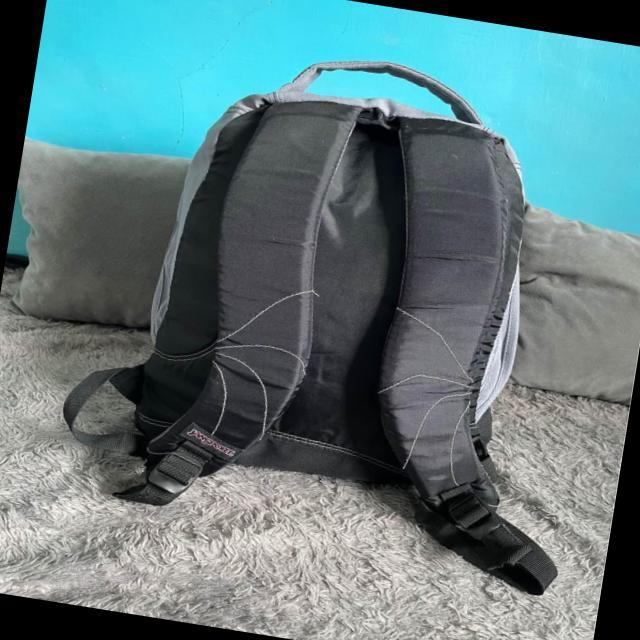bag: (113, 64, 522, 494)
